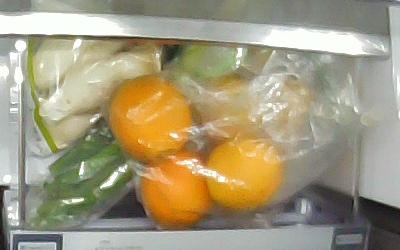orange_vinyl: (107, 74, 193, 159), (138, 150, 216, 226), (206, 139, 284, 210)
